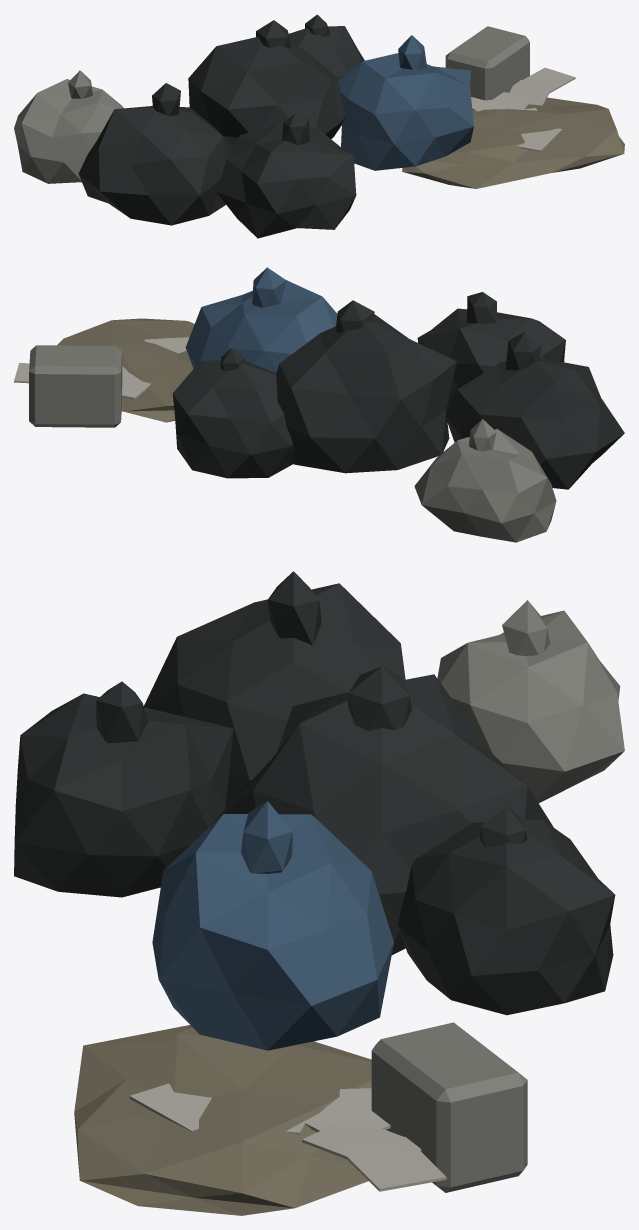
The model's file is litter_bags.glb.
The picture shows the model from 3 angles, top to bottom: view 1: azimuth 30°, elevation 25°; view 2: azimuth 150°, elevation 25°; view 3: azimuth 270°, elevation 25°; orthographic projection. The views are drawn at different scales.
Parts seen in each view (by area): view 1: litter_bags; view 2: litter_bags; view 3: litter_bags.
Part boxes in pixels (x1,y1,x2,y2): litter_bags: (14, 14, 624, 238); litter_bags: (14, 267, 624, 542); litter_bags: (14, 571, 624, 1215).
Bounding box in the file's own units: 2.16 × 0.5945 × 1.18.
